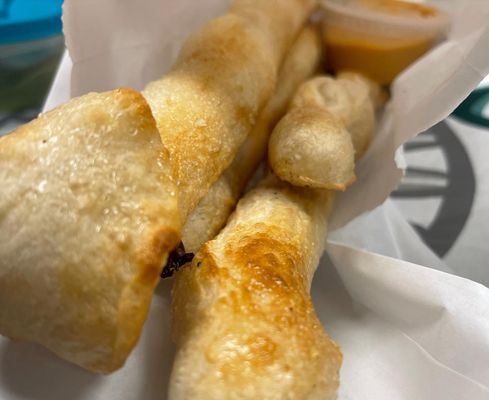soup: (0, 1, 328, 385)
